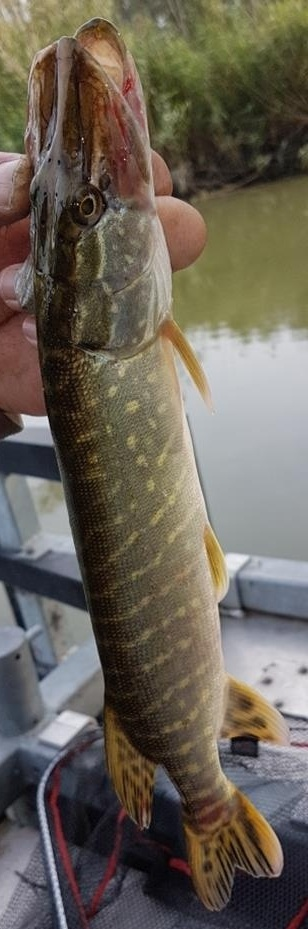Esox lucius: (20, 20, 288, 909)
